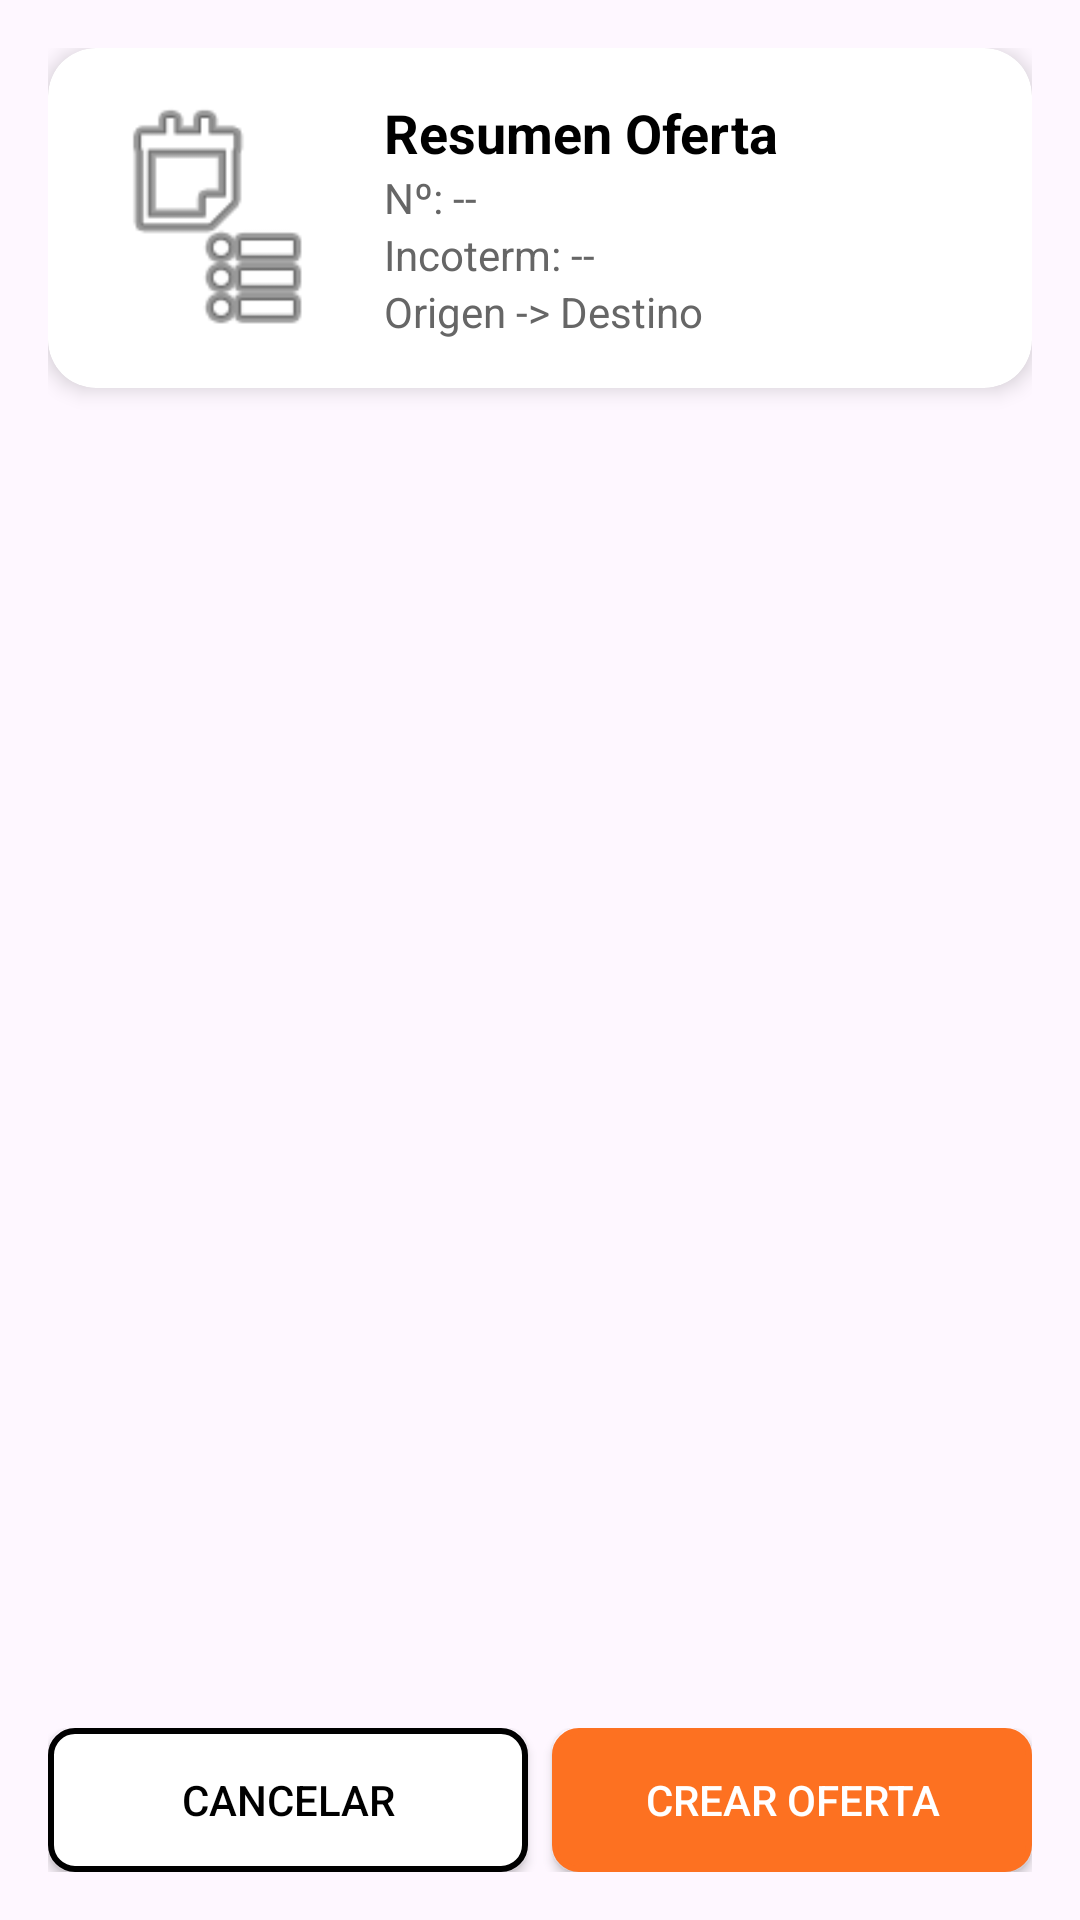

Point at icon controls on the screen. Image size 1080*1920, points as [x,y].
agenda: [217,217]
